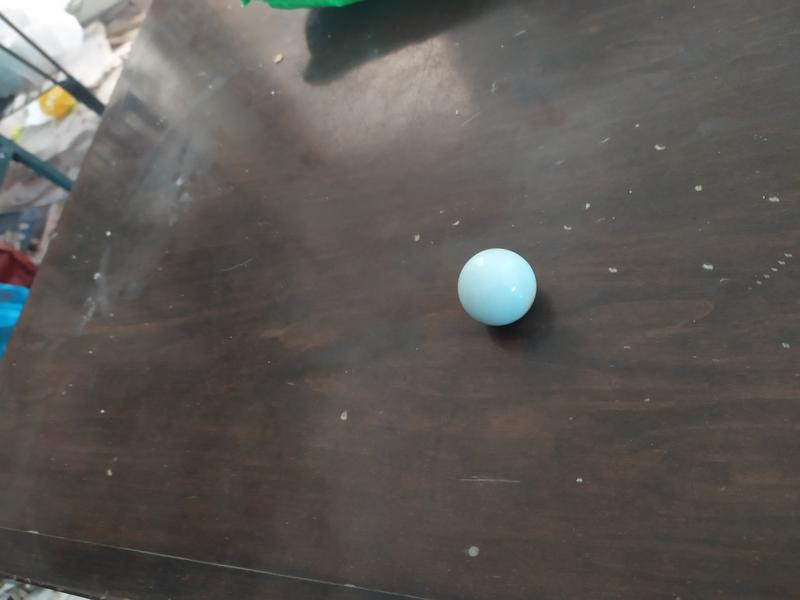Warning: (452, 246, 542, 329)
